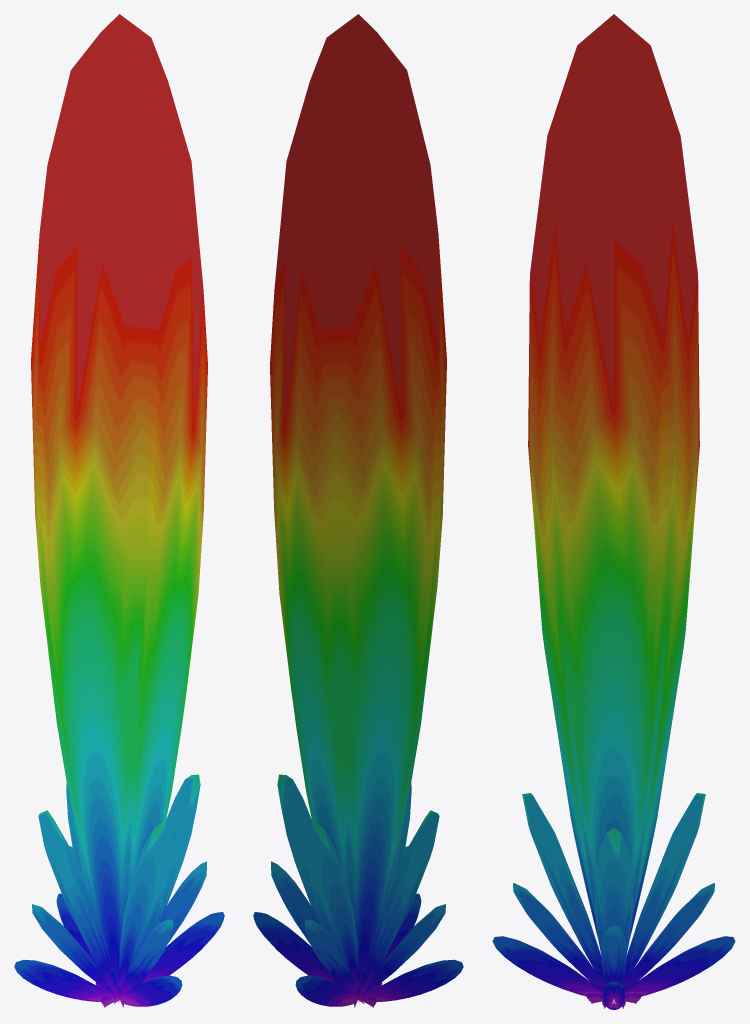
The picture shows the model from 3 angles, left to right: view 1: azimuth 30°, elevation 25°; view 2: azimuth 150°, elevation 25°; view 3: azimuth 270°, elevation 25°; orthographic projection.
Parts seen in each view (by area): view 1: Node; view 2: Node; view 3: Node.
Boxes of the visible parts, left/top/right/bottom form: Node: left=14, top=14, right=224, bottom=1007; Node: left=253, top=14, right=463, bottom=1007; Node: left=492, top=14, right=735, bottom=1009.
Bounding box in the file's own units: 14.3 × 64 × 14.3.
1 material, 1 textured.
